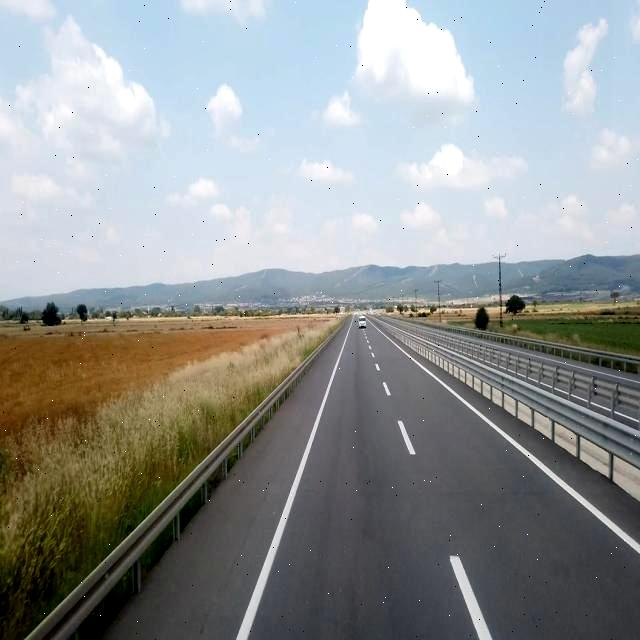lane: (400, 348, 639, 553), (235, 356, 339, 636), (451, 556, 491, 639)
road: (104, 320, 639, 639)
